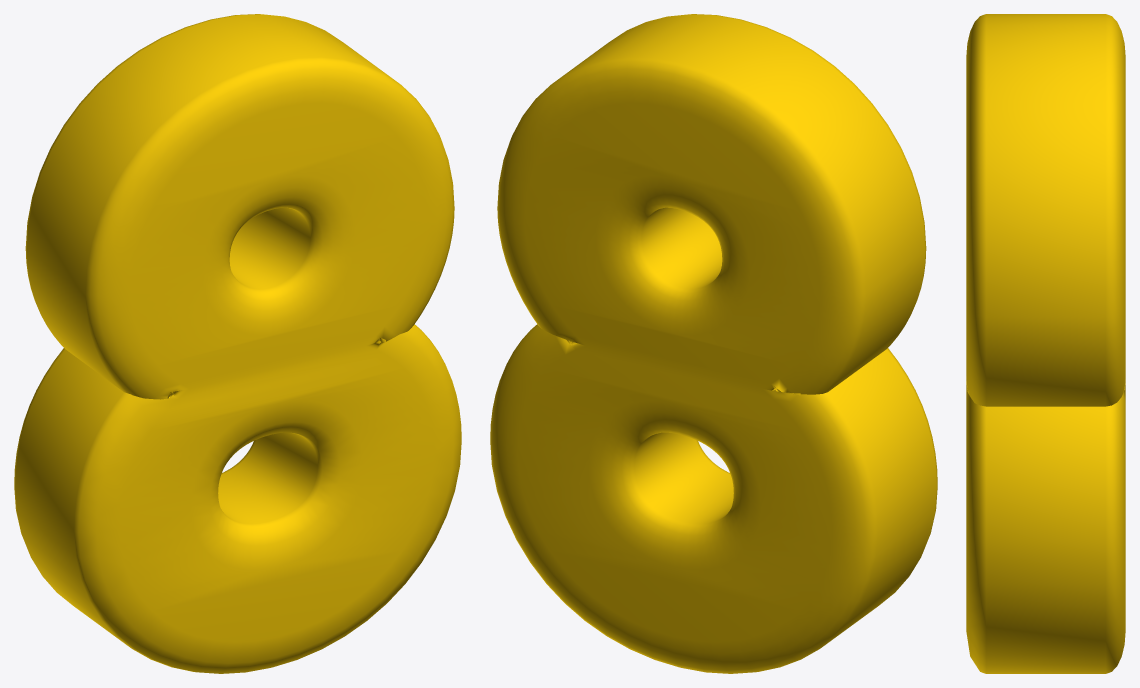
The picture shows the model from 3 angles, left to right: view 1: azimuth 30°, elevation 25°; view 2: azimuth 150°, elevation 25°; view 3: azimuth 270°, elevation 25°; orthographic projection.
Parts seen in each view (by area): view 1: 8_Numbers009_0; view 2: 8_Numbers009_0; view 3: 8_Numbers009_0.
Boxes of the visible parts, x1=… form: 8_Numbers009_0: x1=14, y1=14, x2=461, y2=673; 8_Numbers009_0: x1=490, y1=14, x2=937, y2=673; 8_Numbers009_0: x1=966, y1=14, x2=1125, y2=673.
Size of the model in its own units: 0.2681 by 0.4001 by 0.0938.
